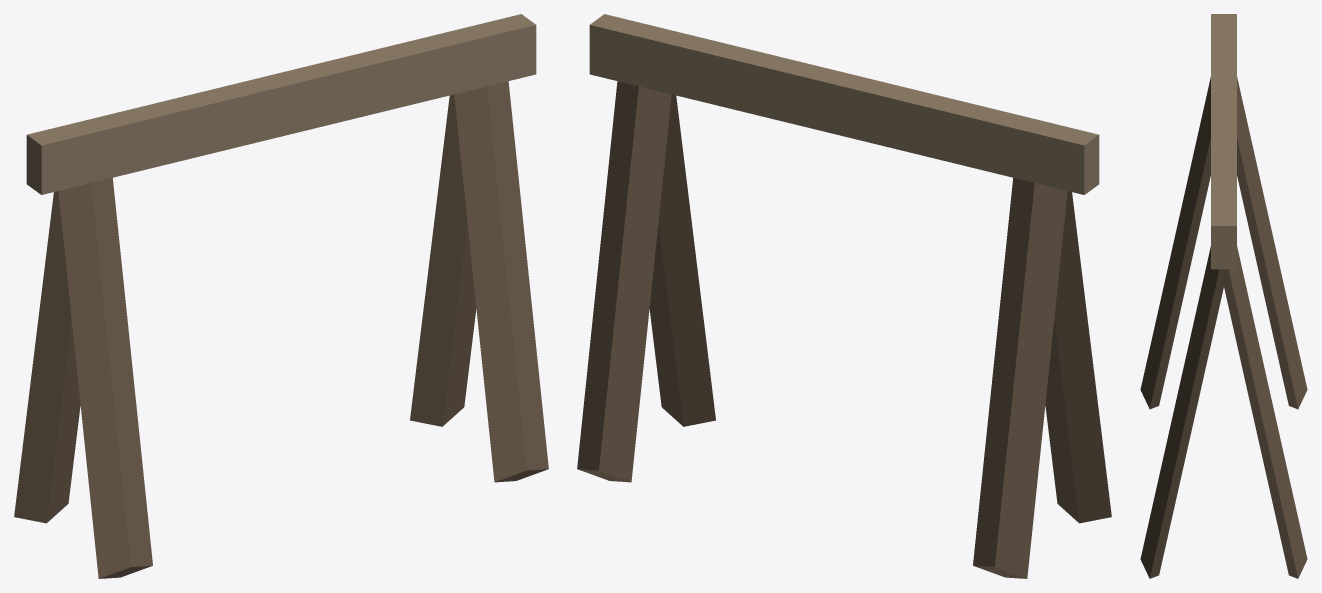
The model's file is support_frame.glb.
3 views of the same model, side by side, from view 1: azimuth 30°, elevation 25°; view 2: azimuth 150°, elevation 25°; view 3: azimuth 270°, elevation 25° (orthographic). The views are drawn at different scales.
Parts seen in each view (by area): view 1: support_frame; view 2: support_frame; view 3: support_frame.
Part boxes in pixels (x1,y1,x2,y2): support_frame: [14, 14, 548, 578]; support_frame: [577, 14, 1111, 578]; support_frame: [1140, 14, 1307, 578].
Size of the model in its own units: 2.88 by 2.35 by 0.96.
